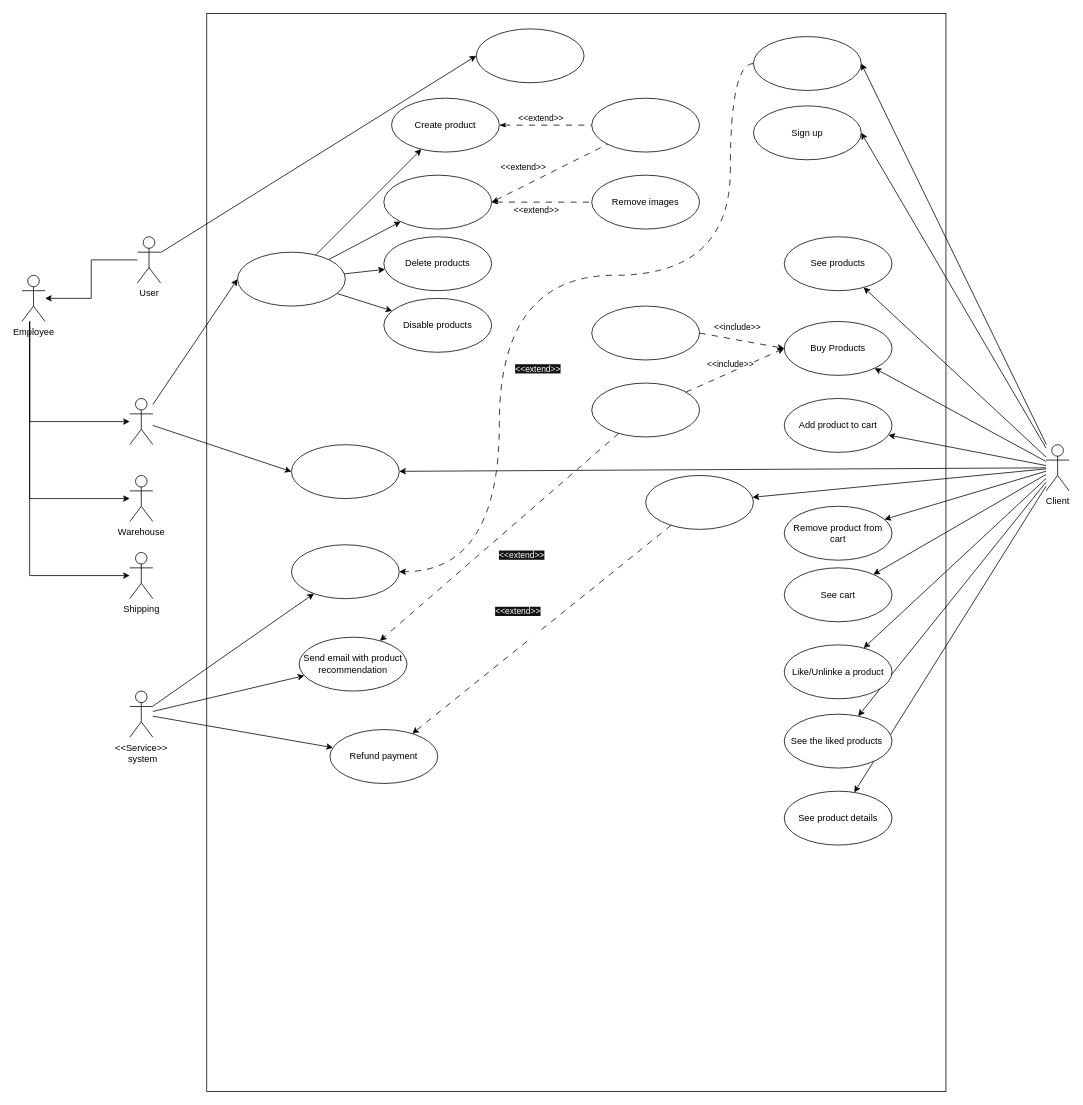
This 1083x1105 diagram has some shape labels left out. The centre of each missing label's shape, as x and y in pixels:
"Add images" goes at [645,124].
"Admin" goes at [141,421].
"Cancel an order" goes at [699,502].
"Login / Logout" goes at [529,55].
"Make a payment" goes at [645,332].
"Manage products" goes at [291,278].
"Place an order" goes at [645,409].
"Reset password" goes at [807,63].
"See client orders" goes at [345,471].
"Send password recovery email" goes at [345,571].
"Update product" goes at [437,201].
